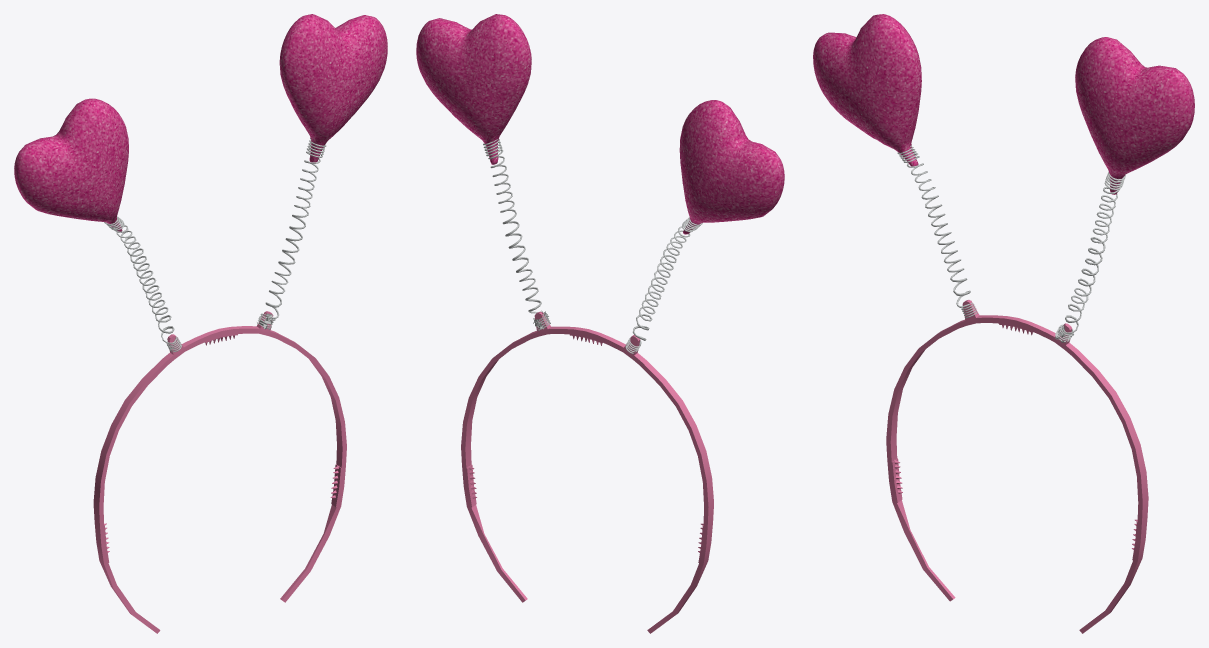
The picture shows the model from 3 angles, left to right: view 1: azimuth 30°, elevation 25°; view 2: azimuth 150°, elevation 25°; view 3: azimuth 330°, elevation 25°; orthographic projection. The views are drawn at different scales.
Parts seen in each view (by area): view 1: Hairband; view 2: Hairband; view 3: Hairband.
Part boxes in pixels (box(x1,y1,x2,y2)): Hairband: box(14, 14, 387, 633); Hairband: box(416, 14, 784, 633); Hairband: box(813, 14, 1194, 633).
Bounding box in the file's own units: 1.73 × 2.62 × 0.2372.
1 material, 1 textured.
